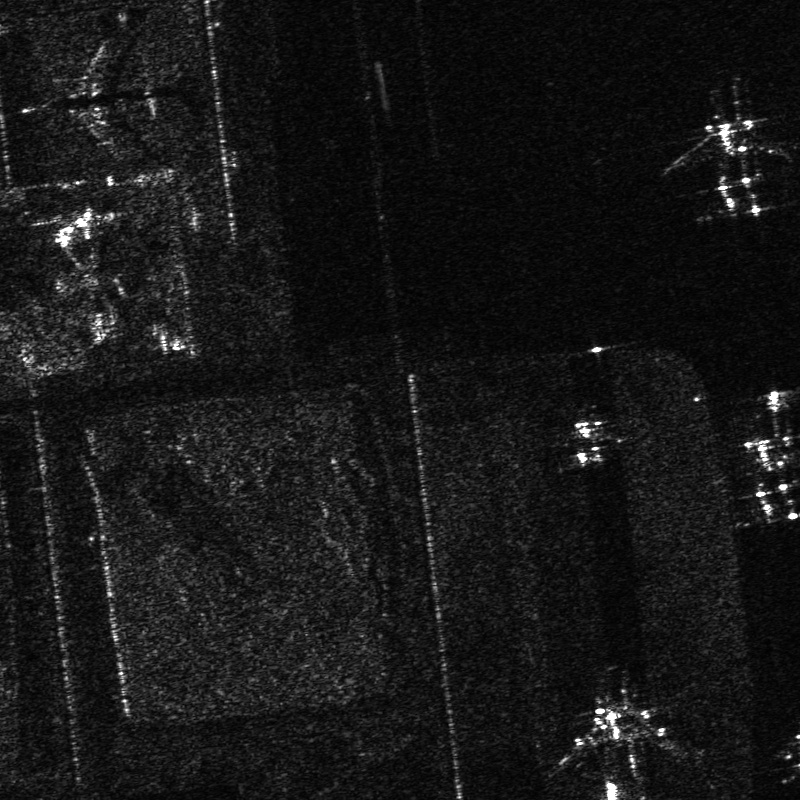A220: (550, 405, 629, 473)
other: (21, 1, 211, 168), (534, 683, 692, 799), (661, 103, 799, 224), (708, 386, 799, 532)
